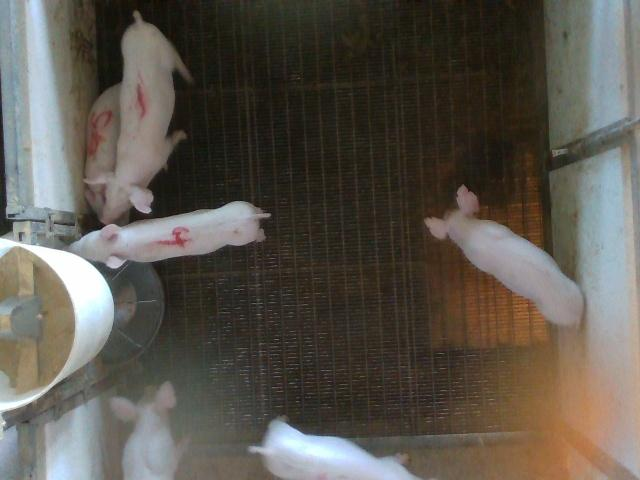pig-1: (102, 11, 192, 223)
pig-4: (69, 201, 270, 268)
pig-5: (85, 84, 119, 218)
